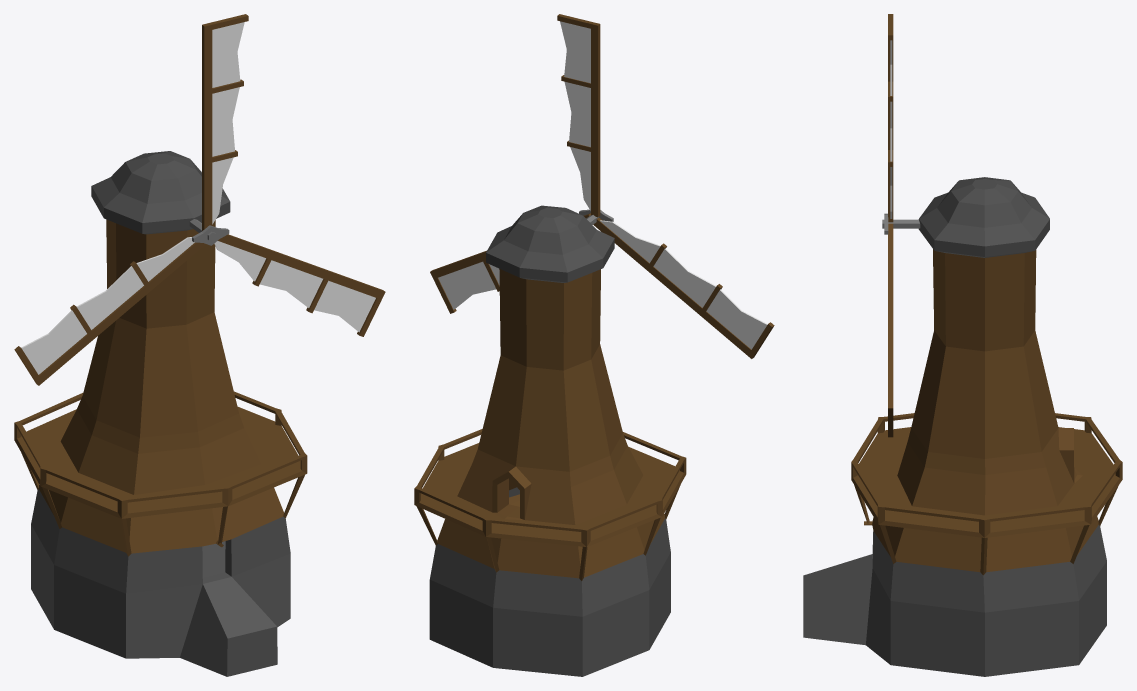
Rendered from Windmill.fbx.
3 views of the same model, side by side, from view 1: azimuth 30°, elevation 25°; view 2: azimuth 150°, elevation 25°; view 3: azimuth 270°, elevation 25° (orthographic). The views are drawn at different scales.
Visible parts, largest first — view 1: WindMill, Windmill_Fins.002, Windmill_Fins.001, Windmill_Fins, Windmill_Arms, Windmill_Arms.002, Windmill_Arms.001, Windmill_Nose; view 2: WindMill, Windmill_Fins.002, Windmill_Fins, Windmill_Arms, Windmill_Arms.002, Windmill_Fins.001, Windmill_Arms.001; view 3: WindMill, Windmill_Arms.001, Windmill_Arms, Windmill_Fins.
Part boxes in pixels (bbox=[...]): WindMill: bbox=[14, 151, 307, 676]; Windmill_Fins.002: bbox=[21, 237, 194, 374]; Windmill_Fins.001: bbox=[214, 241, 375, 332]; Windmill_Fins: bbox=[212, 22, 244, 224]; Windmill_Arms: bbox=[202, 14, 248, 230]; Windmill_Arms.002: bbox=[14, 242, 205, 385]; Windmill_Arms.001: bbox=[218, 234, 385, 336]; Windmill_Nose: bbox=[189, 219, 229, 245]; WindMill: bbox=[414, 205, 686, 676]; Windmill_Fins.002: bbox=[600, 220, 767, 349]; Windmill_Fins: bbox=[560, 21, 590, 210]; Windmill_Arms: bbox=[557, 14, 600, 217]; Windmill_Arms.002: bbox=[593, 218, 774, 358]; Windmill_Fins.001: bbox=[438, 261, 499, 309]; Windmill_Arms.001: bbox=[430, 213, 590, 313]; WindMill: bbox=[803, 177, 1122, 676]; Windmill_Arms.001: bbox=[888, 223, 893, 437]; Windmill_Arms: bbox=[888, 14, 893, 222]; Windmill_Fins: bbox=[890, 40, 892, 218].
Size of the model in its own units: 1190 by 1894 by 900.
